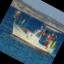fishing boat: (5, 1, 64, 60)
